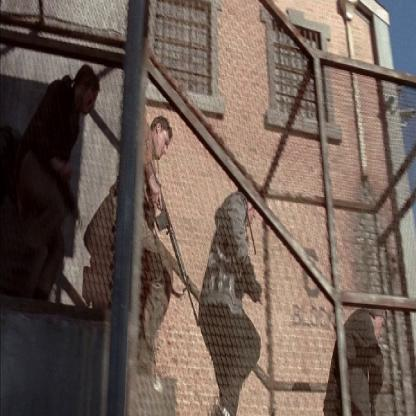Gun: (153, 177, 201, 330)
